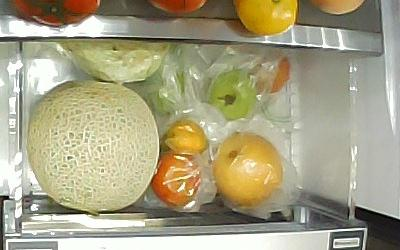cabbage: (54, 39, 170, 83)
melon: (29, 80, 159, 213)
pear_vinyl: (212, 132, 283, 210)
prune_vinyl: (152, 153, 201, 208)
tangerine_vinyl: (162, 119, 210, 157)
tomato_vinyl: (208, 71, 257, 122), (251, 53, 291, 94)
